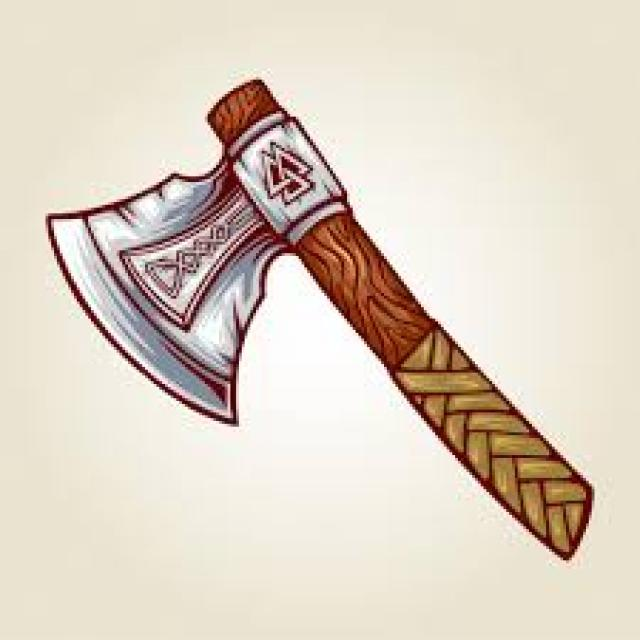Gun: (24, 75, 606, 568)
